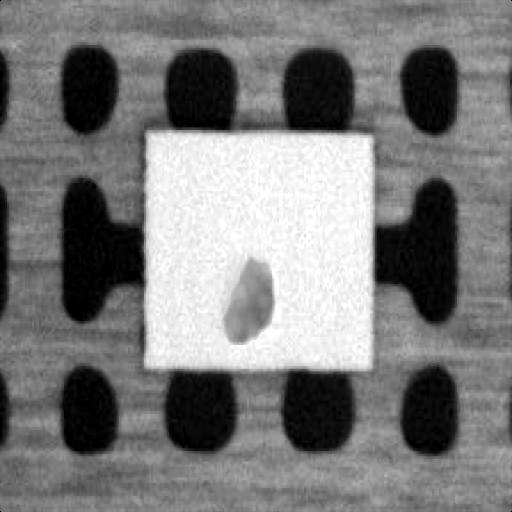DIE_INK: (220, 252, 272, 342)
